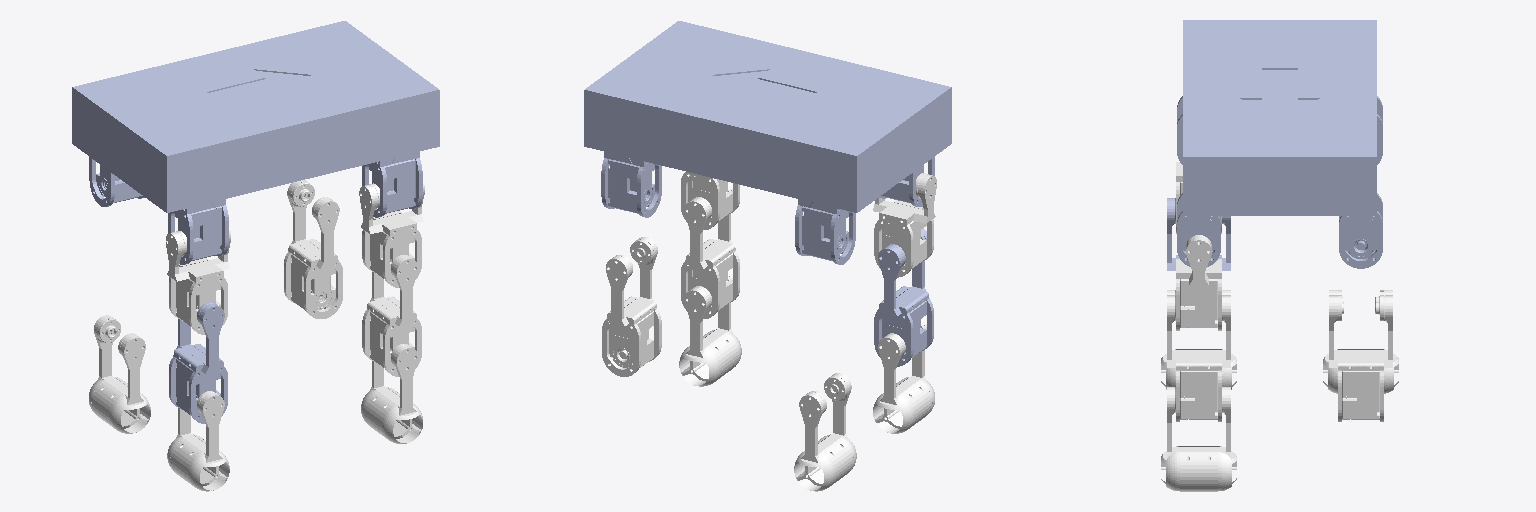
The robot description file, URDF, robot "WalkBot4Leg_Long":
<?xml version="1.0" encoding="utf-8"?>
<!-- This URDF was automatically created by SolidWorks to URDF Exporter! Originally created by [author] ([email redacted]) 
     Commit Version: 1.6.0-4-g7f85cfe  Build Version: 1.6.7995.38578
     For more information, please see http://wiki.ros.org/sw_urdf_exporter -->
<robot
  name="WalkBot4Leg_Long">
  <link
    name="Body">
    <inertial>
      <origin
        xyz="8.17357455831703E-06 -8.19433772981432E-07 -0.00300170877774879"
        rpy="0 0 0" />
      <mass
        value="0.50" />
      <inertia
        ixx="0.0013074898058424"
        ixy="3.36188956883991E-10"
        ixz="1.60521989431855E-07"
        iyy="0.00339179073259683"
        iyz="5.51431836645588E-09"
        izz="0.00441758469225806" />
    </inertial>
    <visual>
      <origin
        xyz="0 0 0"
        rpy="0 0 0" />
      <geometry>
        <mesh
          filename="../meshes/Body.STL" />
      </geometry>
      <material
        name="">
        <color
          rgba="0.792156862745098 0.819607843137255 0.933333333333333 1" />
      </material>
    </visual>
    <collision>
      <origin
        xyz="0 0 0"
        rpy="0 0 0" />
      <geometry>
        <mesh
          filename="../meshes/Body.STL" />
      </geometry>
    </collision>
  </link>
  <link
    name="FR1_Servo">
    <inertial>
      <origin
        xyz="6.63024617987423E-05 0.00017480111947784 -0.0318010030269155"
        rpy="0 0 0" />
      <mass
        value="0.0230007365895397" />
      <inertia
        ixx="2.85194124414614E-06"
        ixy="-8.41838748723463E-11"
        ixz="-1.37683480361865E-09"
        iyy="3.38038527155297E-06"
        iyz="2.66636683877571E-09"
        izz="1.0750315407539E-06" />
    </inertial>
    <visual>
      <origin
        xyz="0 0 0"
        rpy="0 0 0" />
      <geometry>
        <mesh
          filename="../meshes/FR1_Servo.STL" />
      </geometry>
      <material
        name="">
        <color
          rgba="1 1 1 1" />
      </material>
    </visual>
    <collision>
      <origin
        xyz="0 0 0"
        rpy="0 0 0" />
      <geometry>
        <mesh
          filename="../meshes/FR1_Servo.STL" />
      </geometry>
    </collision>
  </link>
  <joint
    name="FR1"
    type="revolute">
    <origin
      xyz="0.071 -0.05 -0.0488561341528267"
      rpy="0 0 0" />
    <parent
      link="Body" />
    <child
      link="FR1_Servo" />
    <axis
      xyz="1 0 0" />
    <limit
      lower="-1.5708"
      upper="1.5708"
      effort="0.52"
      velocity="10.89" />
  </joint>
  <link
    name="FR2_Servo">
    <inertial>
      <origin
        xyz="9.14719030635502E-06 0.000228979303958821 -0.044087748012233"
        rpy="0 0 0" />
      <mass
        value="0.0232882918603983" />
      <inertia
        ixx="3.65596349321669E-06"
        ixy="-8.28434828683659E-11"
        ixz="-1.37858113387024E-09"
        iyy="4.08685344603095E-06"
        iyz="2.66811008456549E-09"
        izz="1.12460835432337E-06" />
    </inertial>
    <visual>
      <origin
        xyz="0 0 0"
        rpy="0 0 0" />
      <geometry>
        <mesh
          filename="../meshes/FR2_Servo.STL" />
      </geometry>
      <material
        name="">
        <color
          rgba="1 1 1 1" />
      </material>
    </visual>
    <collision>
      <origin
        xyz="0 0 0"
        rpy="0 0 0" />
      <geometry>
        <mesh
          filename="../meshes/FR2_Servo.STL" />
      </geometry>
    </collision>
  </link>
  <joint
    name="FR2"
    type="revolute">
    <origin
      xyz="0 0 -0.0474161341528266"
      rpy="0 0 0" />
    <parent
      link="FR1_Servo" />
    <child
      link="FR2_Servo" />
    <axis
      xyz="0 -1 0" />
    <limit
      lower="-1.5708"
      upper="1.5708"
      effort="0.52"
      velocity="10.89" />
  </joint>
  <link
    name="FR3_Servo">
    <inertial>
      <origin
        xyz="2.69406019715035E-09 7.81684544896785E-05 -0.0359209968856328"
        rpy="0 0 0" />
      <mass
        value="0.0167842210685734" />
      <inertia
        ixx="2.29107229796221E-06"
        ixy="1.40834939749781E-13"
        ixz="-1.41793132434197E-13"
        iyy="2.61195222976322E-06"
        iyz="1.24376477992814E-12"
        izz="1.24659676057817E-06" />
    </inertial>
    <visual>
      <origin
        xyz="0 0 0"
        rpy="0 0 0" />
      <geometry>
        <mesh
          filename="../meshes/FR3_Servo.STL" />
      </geometry>
      <material
        name="">
        <color
          rgba="1 1 1 1" />
      </material>
    </visual>
    <collision>
      <origin
        xyz="0 0 0"
        rpy="0 0 0" />
      <geometry>
        <mesh
          filename="../meshes/FR3_Servo.STL" />
      </geometry>
    </collision>
  </link>
  <joint
    name="FR3"
    type="revolute">
    <origin
      xyz="0 0 -0.0624161341528267"
      rpy="0 0 0" />
    <parent
      link="FR2_Servo" />
    <child
      link="FR3_Servo" />
    <axis
      xyz="0 -1 0" />
    <limit
      lower="-1.5708"
      upper="1.5708"
      effort="0.52"
      velocity="10.89" />
  </joint>
  <link
    name="FL1_Servo">
    <inertial>
      <origin
        xyz="6.63024617987562E-05 0.000174801119477853 -0.0318010030269155"
        rpy="0 0 0" />
      <mass
        value="0.0230007365895397" />
      <inertia
        ixx="2.85194124414614E-06"
        ixy="-8.41838748722794E-11"
        ixz="-1.37683480361837E-09"
        iyy="3.38038527155296E-06"
        iyz="2.66636683877604E-09"
        izz="1.0750315407539E-06" />
    </inertial>
    <visual>
      <origin
        xyz="0 0 0"
        rpy="0 0 0" />
      <geometry>
        <mesh
          filename="../meshes/FL1_Servo.STL" />
      </geometry>
      <material
        name="">
        <color
          rgba="0.792156862745098 0.819607843137255 0.933333333333333 1" />
      </material>
    </visual>
    <collision>
      <origin
        xyz="0 0 0"
        rpy="0 0 0" />
      <geometry>
        <mesh
          filename="../meshes/FL1_Servo.STL" />
      </geometry>
    </collision>
  </link>
  <joint
    name="FL1"
    type="revolute">
    <origin
      xyz="0.071 0.05 -0.0488561341528267"
      rpy="0 0 0" />
    <parent
      link="Body" />
    <child
      link="FL1_Servo" />
    <axis
      xyz="1 0 0" />
    <limit
      lower="-1.5708"
      upper="1.5708"
      effort="0.52"
      velocity="10.89" />
  </joint>
  <link
    name="FL2_Servo">
    <inertial>
      <origin
        xyz="9.14719030635502E-06 0.0002289793039588 -0.044087748012233"
        rpy="0 0 0" />
      <mass
        value="0.0232882918603984" />
      <inertia
        ixx="3.65596349321669E-06"
        ixy="-8.28434828684451E-11"
        ixz="-1.37858113387041E-09"
        iyy="4.08685344603095E-06"
        iyz="2.66811008456588E-09"
        izz="1.12460835432337E-06" />
    </inertial>
    <visual>
      <origin
        xyz="0 0 0"
        rpy="0 0 0" />
      <geometry>
        <mesh
          filename="../meshes/FL2_Servo.STL" />
      </geometry>
      <material
        name="">
        <color
          rgba="1 1 1 1" />
      </material>
    </visual>
    <collision>
      <origin
        xyz="0 0 0"
        rpy="0 0 0" />
      <geometry>
        <mesh
          filename="../meshes/FL2_Servo.STL" />
      </geometry>
    </collision>
  </link>
  <joint
    name="FL2"
    type="revolute">
    <origin
      xyz="0 0 -0.0474161341528266"
      rpy="0 0 0" />
    <parent
      link="FL1_Servo" />
    <child
      link="FL2_Servo" />
    <axis
      xyz="0 -1 0" />
    <limit
      lower="-1.5708"
      upper="1.5708"
      effort="0.52"
      velocity="10.89" />
  </joint>
  <link
    name="FL3_Servo">
    <inertial>
      <origin
        xyz="2.69406022490593E-09 7.81684544896993E-05 -0.0359209968856328"
        rpy="0 0 0" />
      <mass
        value="0.0167842210685734" />
      <inertia
        ixx="2.29107229796221E-06"
        ixy="1.40834939384918E-13"
        ixz="-1.41793131343822E-13"
        iyy="2.61195222976322E-06"
        iyz="1.24376477811362E-12"
        izz="1.24659676057817E-06" />
    </inertial>
    <visual>
      <origin
        xyz="0 0 0"
        rpy="0 0 0" />
      <geometry>
        <mesh
          filename="../meshes/FL3_Servo.STL" />
      </geometry>
      <material
        name="">
        <color
          rgba="0.792156862745098 0.819607843137255 0.933333333333333 1" />
      </material>
    </visual>
    <collision>
      <origin
        xyz="0 0 0"
        rpy="0 0 0" />
      <geometry>
        <mesh
          filename="../meshes/FL3_Servo.STL" />
      </geometry>
    </collision>
  </link>
  <joint
    name="FL3"
    type="revolute">
    <origin
      xyz="0 0 -0.0624161341528267"
      rpy="0 0 0" />
    <parent
      link="FL2_Servo" />
    <child
      link="FL3_Servo" />
    <axis
      xyz="0 -1 0" />
    <limit
      lower="-1.5708"
      upper="1.5708"
      effort="0.52"
      velocity="10.89" />
  </joint>
  <link
    name="BR1_Servo">
    <inertial>
      <origin
        xyz="6.63024617987423E-05 0.000174801119477819 -0.0318010030269155"
        rpy="0 0 0" />
      <mass
        value="0.0230007365895397" />
      <inertia
        ixx="2.85194124414614E-06"
        ixy="-8.41838748724021E-11"
        ixz="-1.37683480361916E-09"
        iyy="3.38038527155296E-06"
        iyz="2.66636683877556E-09"
        izz="1.0750315407539E-06" />
    </inertial>
    <visual>
      <origin
        xyz="0 0 0"
        rpy="0 0 0" />
      <geometry>
        <mesh
          filename="../meshes/BR1_Servo.STL" />
      </geometry>
      <material
        name="">
        <color
          rgba="1 1 1 1" />
      </material>
    </visual>
    <collision>
      <origin
        xyz="0 0 0"
        rpy="0 0 0" />
      <geometry>
        <mesh
          filename="../meshes/BR1_Servo.STL" />
      </geometry>
    </collision>
  </link>
  <joint
    name="BR1"
    type="revolute">
    <origin
      xyz="-0.071 -0.05 -0.0488561341528267"
      rpy="0 0 0" />
    <parent
      link="Body" />
    <child
      link="BR1_Servo" />
    <axis
      xyz="1 0 0" />
    <limit
      lower="-1.5708"
      upper="1.5708"
      effort="0.52"
      velocity="10.89" />
  </joint>
  <link
    name="BR2_Servo">
    <inertial>
      <origin
        xyz="9.14719030641054E-06 0.000228979303958814 -0.0440877480122329"
        rpy="0 0 0" />
      <mass
        value="0.0232882918603984" />
      <inertia
        ixx="3.65596349321669E-06"
        ixy="-8.28434828684524E-11"
        ixz="-1.37858113386765E-09"
        iyy="4.08685344603095E-06"
        iyz="2.66811008456746E-09"
        izz="1.12460835432337E-06" />
    </inertial>
    <visual>
      <origin
        xyz="0 0 0"
        rpy="0 0 0" />
      <geometry>
        <mesh
          filename="../meshes/BR2_Servo.STL" />
      </geometry>
      <material
        name="">
        <color
          rgba="0.792156862745098 0.819607843137255 0.933333333333333 1" />
      </material>
    </visual>
    <collision>
      <origin
        xyz="0 0 0"
        rpy="0 0 0" />
      <geometry>
        <mesh
          filename="../meshes/BR2_Servo.STL" />
      </geometry>
    </collision>
  </link>
  <joint
    name="BR2"
    type="revolute">
    <origin
      xyz="0 0 -0.0474161341528266"
      rpy="0 0 0" />
    <parent
      link="BR1_Servo" />
    <child
      link="BR2_Servo" />
    <axis
      xyz="0 -1 0" />
    <limit
      lower="-1.5708"
      upper="1.5708"
      effort="0.52"
      velocity="10.89" />
  </joint>
  <link
    name="BR3_Servo">
    <inertial>
      <origin
        xyz="2.69406021102814E-09 7.81684544896924E-05 -0.0359209968856328"
        rpy="0 0 0" />
      <mass
        value="0.0167842210685734" />
      <inertia
        ixx="2.29107229796221E-06"
        ixy="1.40834939459237E-13"
        ixz="-1.41793130548659E-13"
        iyy="2.61195222976322E-06"
        iyz="1.24376478015691E-12"
        izz="1.24659676057817E-06" />
    </inertial>
    <visual>
      <origin
        xyz="0 0 0"
        rpy="0 0 0" />
      <geometry>
        <mesh
          filename="../meshes/BR3_Servo.STL" />
      </geometry>
      <material
        name="">
        <color
          rgba="1 1 1 1" />
      </material>
    </visual>
    <collision>
      <origin
        xyz="0 0 0"
        rpy="0 0 0" />
      <geometry>
        <mesh
          filename="../meshes/BR3_Servo.STL" />
      </geometry>
    </collision>
  </link>
  <joint
    name="BR3"
    type="revolute">
    <origin
      xyz="0 0 -0.0624161341528267"
      rpy="0 0 0" />
    <parent
      link="BR2_Servo" />
    <child
      link="BR3_Servo" />
    <axis
      xyz="0 -1 0" />
    <limit
      lower="-1.5708"
      upper="1.5708"
      effort="0.52"
      velocity="10.89" />
  </joint>
  <link
    name="BL1_Servo">
    <inertial>
      <origin
        xyz="6.63024617987562E-05 0.000174801119477846 -0.0318010030269155"
        rpy="0 0 0" />
      <mass
        value="0.0230007365895397" />
      <inertia
        ixx="2.85194124414614E-06"
        ixy="-8.4183874872215E-11"
        ixz="-1.37683480361878E-09"
        iyy="3.38038527155297E-06"
        iyz="2.66636683877589E-09"
        izz="1.0750315407539E-06" />
    </inertial>
    <visual>
      <origin
        xyz="0 0 0"
        rpy="0 0 0" />
      <geometry>
        <mesh
          filename="../meshes/BL1_Servo.STL" />
      </geometry>
      <material
        name="">
        <color
          rgba="1 1 1 1" />
      </material>
    </visual>
    <collision>
      <origin
        xyz="0 0 0"
        rpy="0 0 0" />
      <geometry>
        <mesh
          filename="../meshes/BL1_Servo.STL" />
      </geometry>
    </collision>
  </link>
  <joint
    name="BL1"
    type="revolute">
    <origin
      xyz="-0.071 0.05 -0.0488561341528267"
      rpy="0 0 0" />
    <parent
      link="Body" />
    <child
      link="BL1_Servo" />
    <axis
      xyz="1 0 0" />
    <limit
      lower="-1.5708"
      upper="1.5708"
      effort="0.52"
      velocity="10.89" />
  </joint>
  <link
    name="BL2_Servo">
    <inertial>
      <origin
        xyz="9.14719030642441E-06 0.000228979303958821 -0.0440877480122329"
        rpy="0 0 0" />
      <mass
        value="0.0232882918603984" />
      <inertia
        ixx="3.65596349321669E-06"
        ixy="-8.28434828685134E-11"
        ixz="-1.37858113386725E-09"
        iyy="4.08685344603095E-06"
        iyz="2.66811008456588E-09"
        izz="1.12460835432337E-06" />
    </inertial>
    <visual>
      <origin
        xyz="0 0 0"
        rpy="0 0 0" />
      <geometry>
        <mesh
          filename="../meshes/BL2_Servo.STL" />
      </geometry>
      <material
        name="">
        <color
          rgba="1 1 1 1" />
      </material>
    </visual>
    <collision>
      <origin
        xyz="0 0 0"
        rpy="0 0 0" />
      <geometry>
        <mesh
          filename="../meshes/BL2_Servo.STL" />
      </geometry>
    </collision>
  </link>
  <joint
    name="BL2"
    type="revolute">
    <origin
      xyz="0 0 -0.0474161341528266"
      rpy="0 0 0" />
    <parent
      link="BL1_Servo" />
    <child
      link="BL2_Servo" />
    <axis
      xyz="0 -1 0" />
    <limit
      lower="-1.5708"
      upper="1.5708"
      effort="0.52"
      velocity="10.89" />
  </joint>
  <link
    name="BL3_Servo">
    <inertial>
      <origin
        xyz="2.6941E-09 7.8168E-05 -0.035921"
        rpy="0 0 0" />
      <mass
        value="0.016784" />
      <inertia
        ixx="2.2911E-06"
        ixy="1.4083E-13"
        ixz="-1.4179E-13"
        iyy="2.612E-06"
        iyz="1.2438E-12"
        izz="1.2466E-06" />
    </inertial>
    <visual>
      <origin
        xyz="0 0 0"
        rpy="0 0 0" />
      <geometry>
        <mesh
          filename="../meshes/BL3_Servo.STL" />
      </geometry>
      <material
        name="">
        <color
          rgba="1 1 1 1" />
      </material>
    </visual>
    <collision>
      <origin
        xyz="0 0 0"
        rpy="0 0 0" />
      <geometry>
        <mesh
          filename="../meshes/BL3_Servo.STL" />
      </geometry>
    </collision>
  </link>
  <joint
    name="BL3"
    type="revolute">
    <origin
      xyz="0 0 -0.062416"
      rpy="0 0 0" />
    <parent
      link="BL2_Servo" />
    <child
      link="BL3_Servo" />
    <axis
      xyz="0 -1 0" />
    <limit
      lower="-1.5708"
      upper="1.5708"
      effort="0.52"
      velocity="10.89" />
  </joint>
</robot>

--- Facts derived from the render (not from the file) ---
Views: 3 orthographic renders of the robot side by side, from view 1: azimuth 30°, elevation 25°; view 2: azimuth 150°, elevation 25°; view 3: azimuth 270°, elevation 25°.
Model WalkBot4Leg_Long with 13 links and 12 joints (12 revolute), rooted at Body, posed all joints at 0.
Visible links, largest first — view 1: Body, FL2_Servo, BL3_Servo, BR2_Servo, FR2_Servo, BR3_Servo, FR3_Servo, FR1_Servo, BR1_Servo; view 2: Body, FL2_Servo, BL3_Servo, BR2_Servo, FR2_Servo, FR3_Servo, BR3_Servo, BR1_Servo, FR1_Servo; view 3: Body, FL2_Servo, FR2_Servo, FR3_Servo, FR1_Servo, BL3_Servo, BR3_Servo, BR2_Servo.
Link boxes in pixels (<box>): Body: <box>72,21,439,264</box>; FL2_Servo: <box>284,180,342,318</box>; BL3_Servo: <box>89,315,150,433</box>; BR2_Servo: <box>169,302,227,423</box>; FR2_Servo: <box>362,255,421,376</box>; BR3_Servo: <box>167,391,229,491</box>; FR3_Servo: <box>361,344,422,443</box>; FR1_Servo: <box>359,181,424,287</box>; BR1_Servo: <box>166,228,230,334</box>; Body: <box>584,21,951,264</box>; FL2_Servo: <box>602,237,661,376</box>; BL3_Servo: <box>794,373,856,491</box>; BR2_Servo: <box>874,228,933,366</box>; FR2_Servo: <box>681,182,739,318</box>; FR3_Servo: <box>679,270,741,386</box>; BR3_Servo: <box>873,317,934,433</box>; BR1_Servo: <box>873,173,936,277</box>; FR1_Servo: <box>681,172,739,229</box>; Body: <box>1177,20,1382,268</box>; FL2_Servo: <box>1329,295,1392,421</box>; FR2_Servo: <box>1167,295,1230,421</box>; FR3_Servo: <box>1161,387,1236,491</box>; FR1_Servo: <box>1176,235,1221,330</box>; BL3_Servo: <box>1323,290,1398,393</box>; BR3_Servo: <box>1161,290,1236,389</box>; BR2_Servo: <box>1167,198,1230,270</box>.
Bounding box of the posed robot: 0.2 × 0.1474 × 0.2395 m (x, y, z).
Meshes: 13 distinct files referenced, 9 mesh visuals loaded (9 binary STL); not drawn: 4 (reference not matched to a file when rendering).
